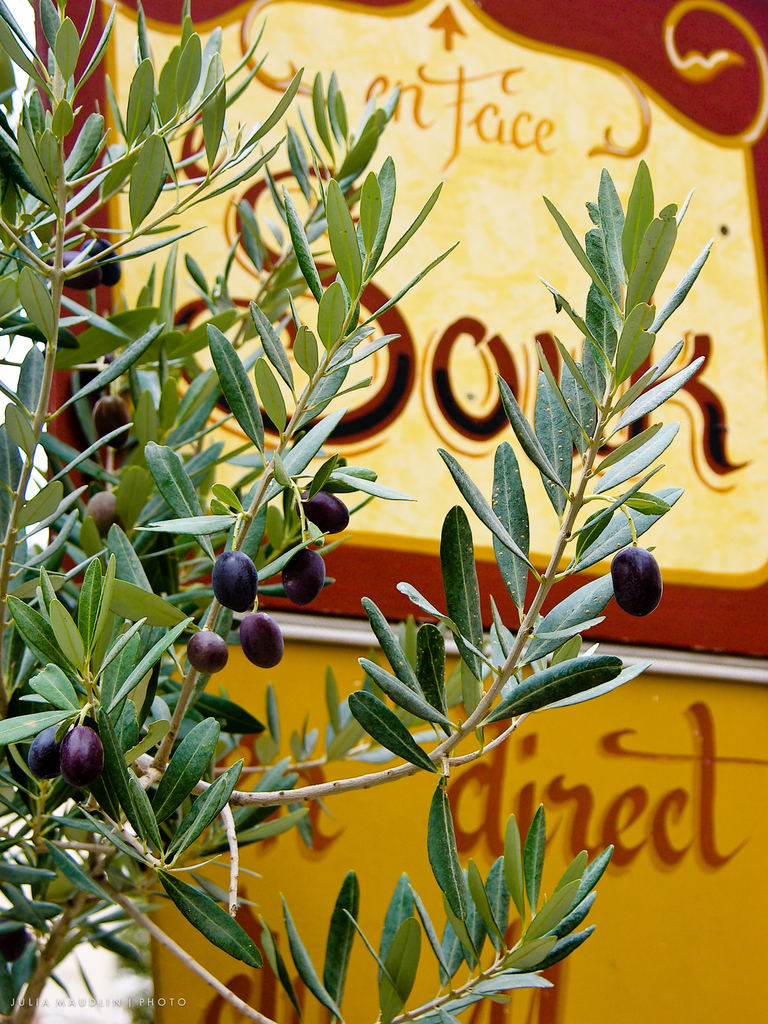Tree: (0, 0, 719, 1022)
